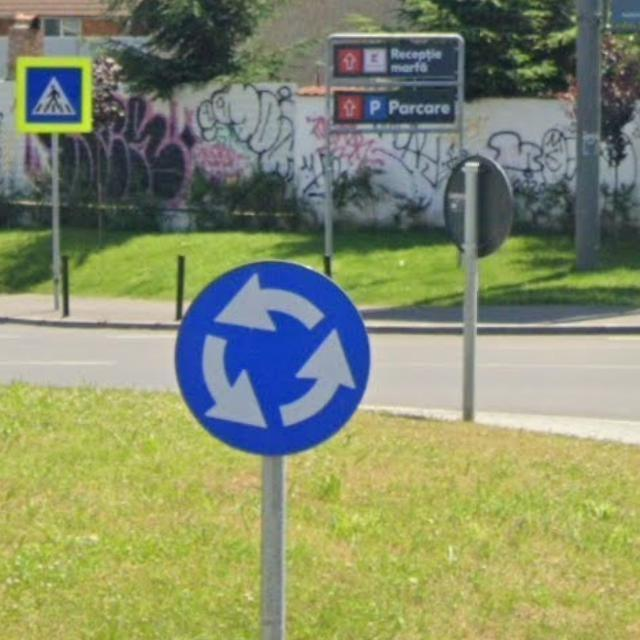info_crosswalk: (16, 57, 93, 134)
